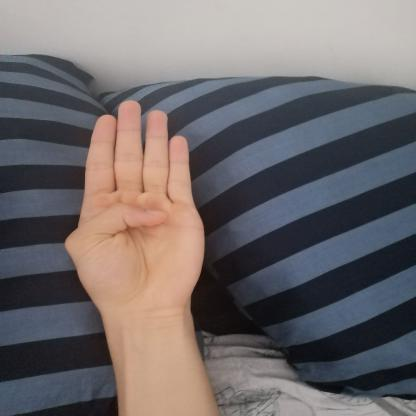KAAF: (40, 82, 229, 331)
